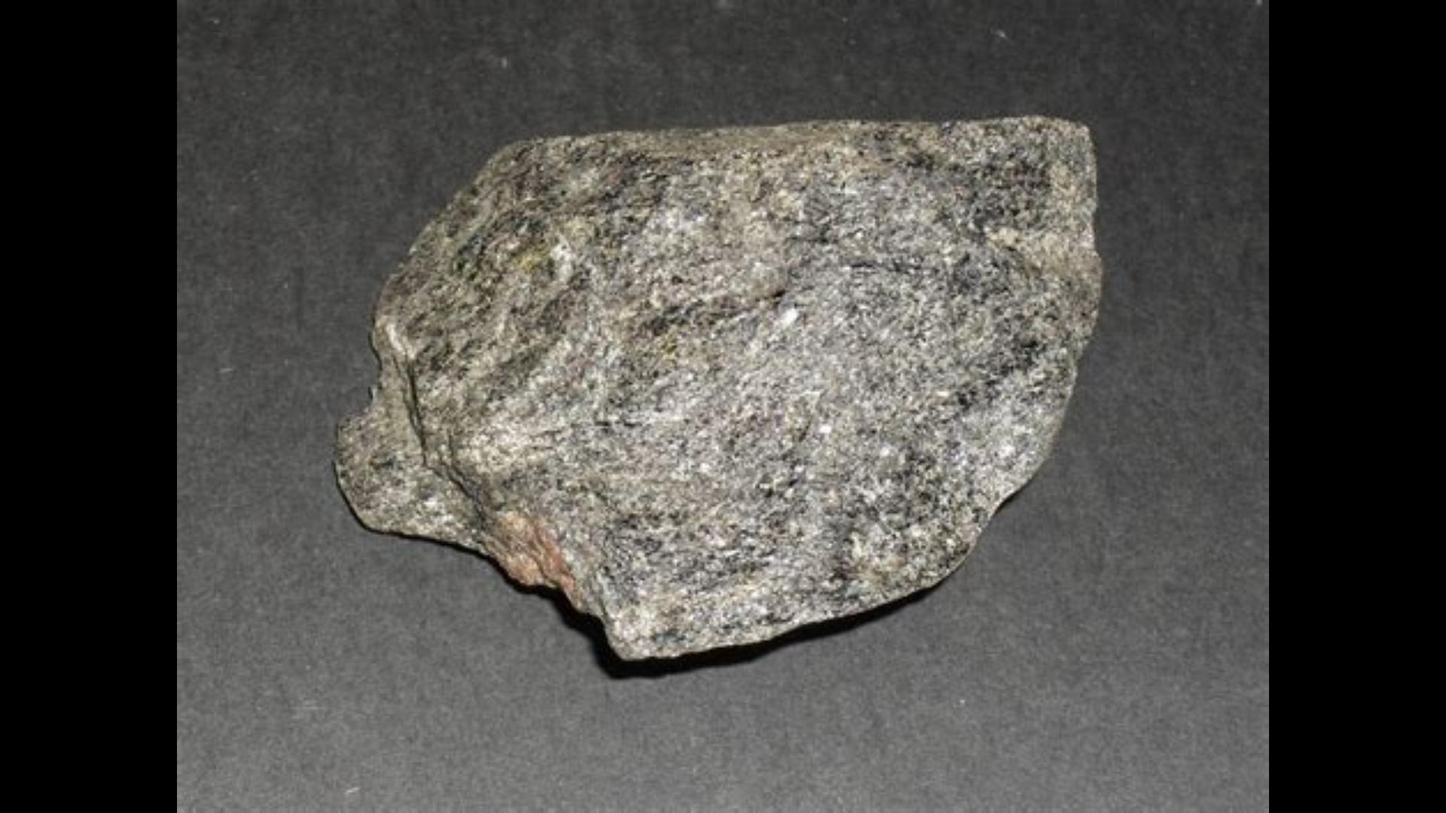rock: (341, 122, 1096, 654)
